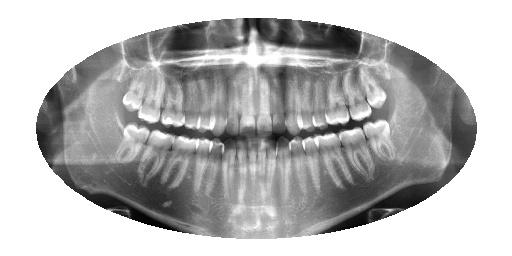i10healthy: (234, 133, 250, 196)
i11decay: (219, 138, 238, 204)
i12healthy: (202, 134, 227, 199)
i13healthy: (187, 133, 214, 202)
i14healthy: (157, 129, 204, 198)
i15healthy: (136, 122, 179, 193)
i16healthy: (113, 118, 153, 168)
i1healthy: (360, 112, 398, 167)
i2healthy: (332, 123, 376, 187)
i3healthy: (311, 130, 355, 194)
i4healthy: (295, 130, 324, 196)
i5healthy: (284, 131, 312, 204)
i6healthy: (270, 137, 297, 207)
i7healthy: (263, 132, 280, 206)
i8healthy: (253, 136, 267, 199)
i9healthy: (247, 131, 258, 200)
u10healthy: (222, 70, 240, 139)
u11healthy: (208, 70, 231, 139)
u12healthy: (192, 73, 216, 136)
u13healthy: (180, 71, 205, 133)
u14healthy: (134, 65, 168, 126), (156, 70, 187, 131)
u15healthy: (118, 65, 146, 114)
u1healthy: (352, 60, 389, 110)
u2healthy: (335, 68, 377, 126)
u3healthy: (323, 74, 350, 131)
u4healthy: (309, 73, 332, 131)
u5healthy: (293, 74, 318, 134)
u6healthy: (281, 73, 305, 138)
u7healthy: (267, 73, 289, 136)
u8healthy: (251, 73, 274, 137)
u9decay: (236, 69, 257, 139)
